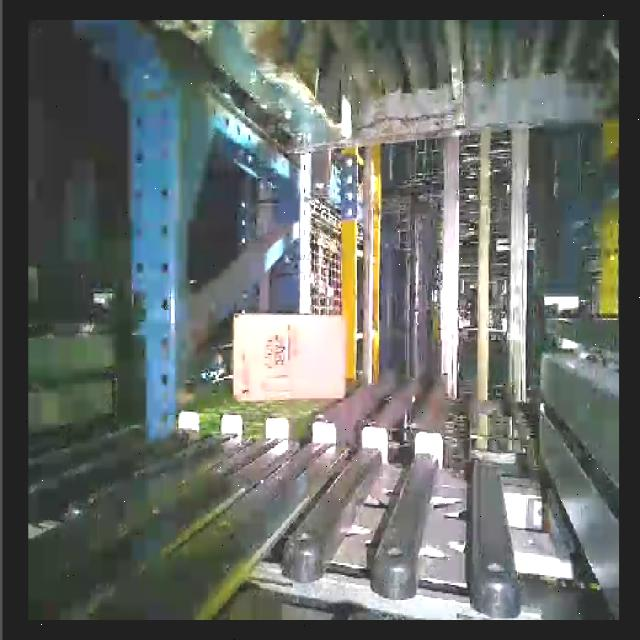box: (233, 315, 346, 405)
